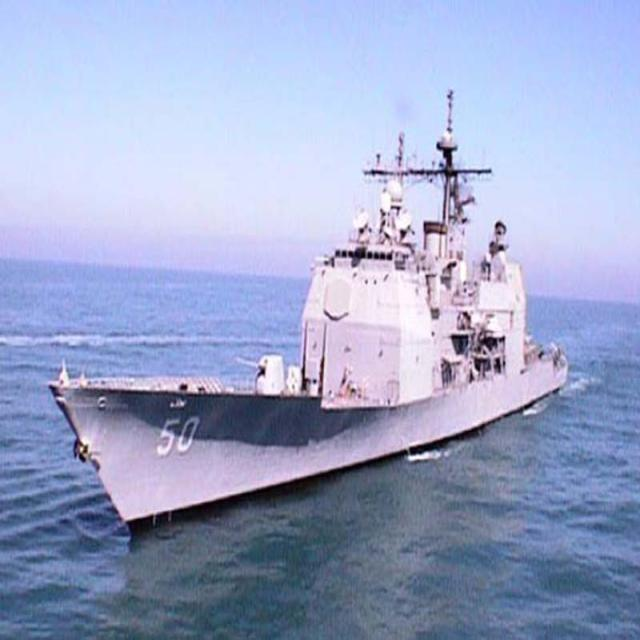navalvessels: (48, 82, 573, 534)
